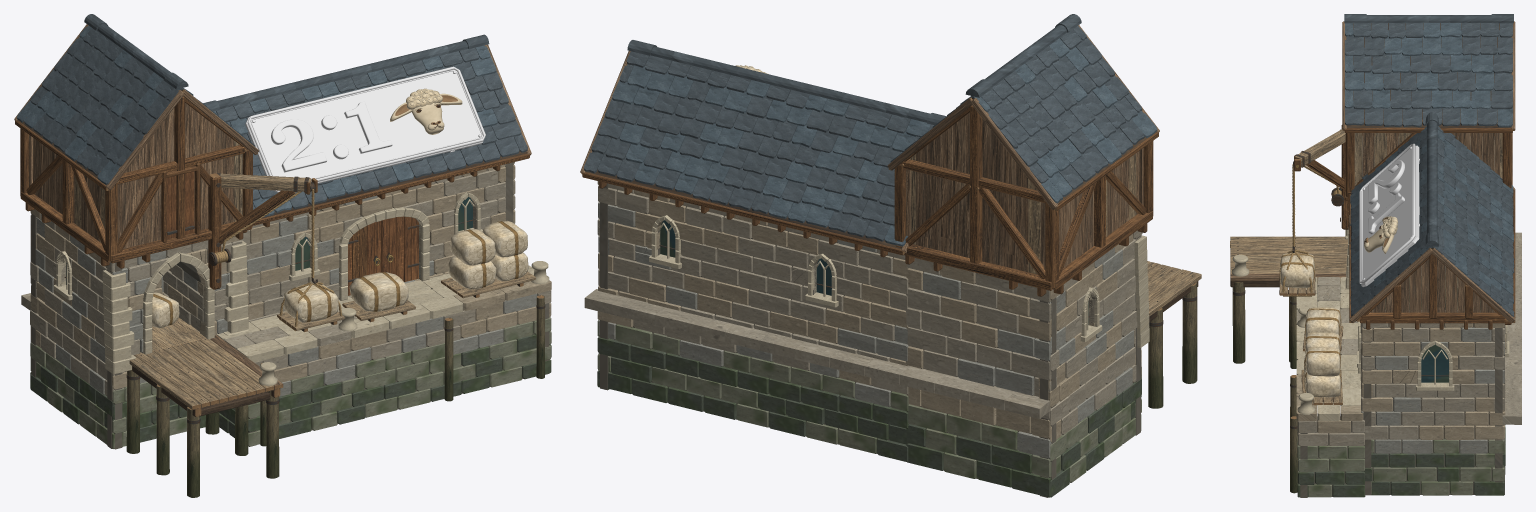
The model's file is wool-harbor.fbx.
3 views of the same model, side by side, from view 1: azimuth 30°, elevation 25°; view 2: azimuth 150°, elevation 25°; view 3: azimuth 270°, elevation 25° (orthographic). The views are drawn at different scales.
Parts seen in each view (by area): view 1: HarborHouse, PierDeck, TradePlaque, WoolBales, Hoist; view 2: HarborHouse, PierDeck; view 3: HarborHouse, PierDeck, TradePlaque, Hoist, WoolBales.
Boxes of the visible parts, <box> form: HarborHouse: <box>14,14,531,449</box>; PierDeck: <box>21,261,551,497</box>; TradePlaque: <box>245,66,485,192</box>; WoolBales: <box>152,220,535,327</box>; Hoist: <box>208,173,344,331</box>; HarborHouse: <box>580,14,1159,497</box>; PierDeck: <box>584,261,1201,418</box>; HarborHouse: <box>1342,14,1515,495</box>; PierDeck: <box>1230,232,1521,497</box>; TradePlaque: <box>1359,143,1419,286</box>; Hoist: <box>1279,125,1349,296</box>; WoolBales: <box>1301,307,1343,405</box>.
Size of the model in its own units: 0.0251 by 0.0202 by 0.0161.
